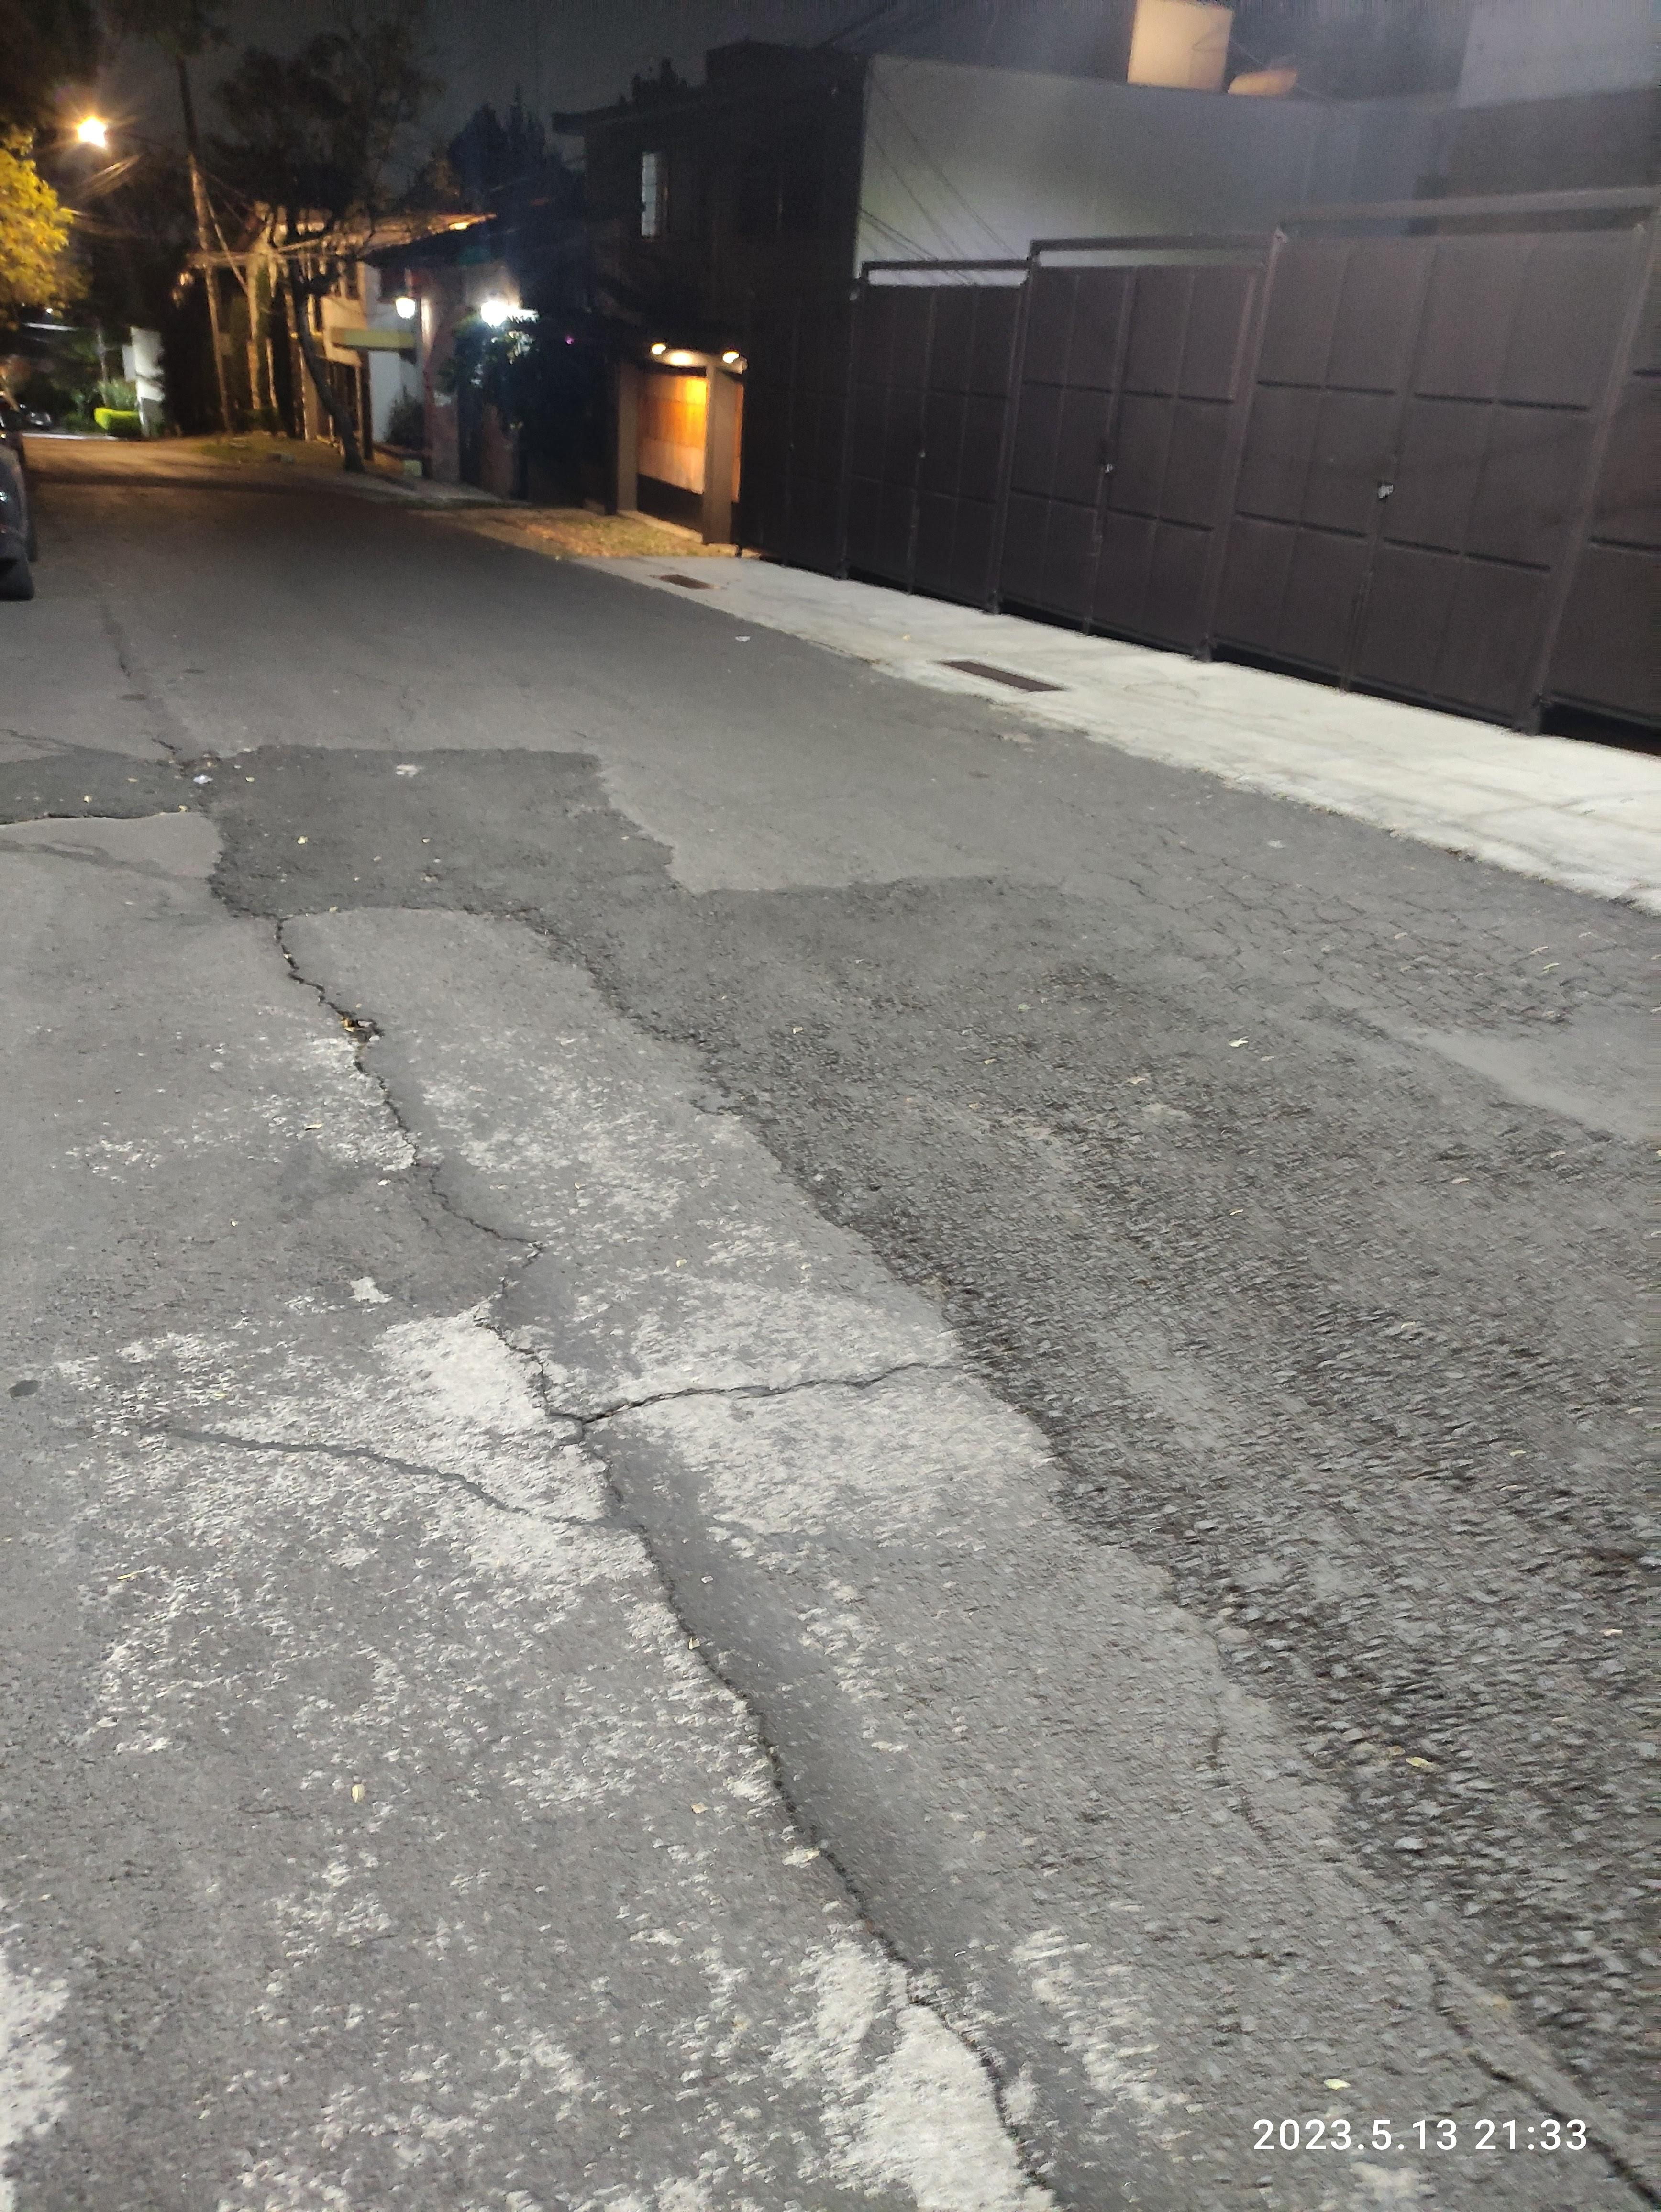alligator-crack: (1161, 799, 1652, 1095)
crack: (1170, 1651, 1658, 2161)
pothole: (573, 1455, 1112, 2212), (273, 919, 575, 1407), (85, 1401, 667, 1541), (544, 1342, 1036, 1434)
